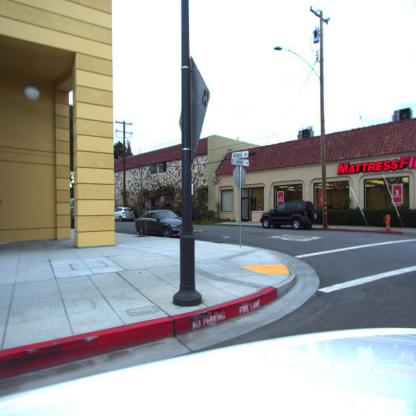car: (136, 210, 183, 238), (115, 206, 136, 221)
fire hydrant: (384, 214, 392, 232)
truck: (260, 201, 318, 230)
